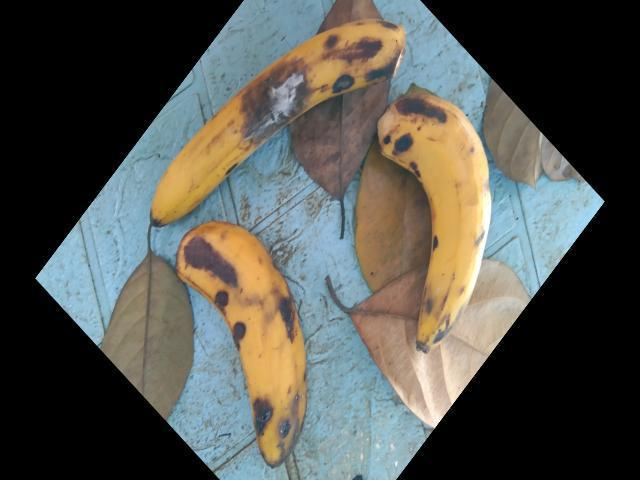overripe: (130, 19, 401, 244), (370, 95, 494, 361), (178, 225, 297, 478)
rotten: (215, 55, 320, 173)
